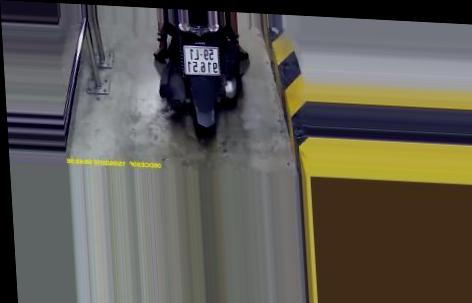License_Plate: (181, 41, 222, 79)
